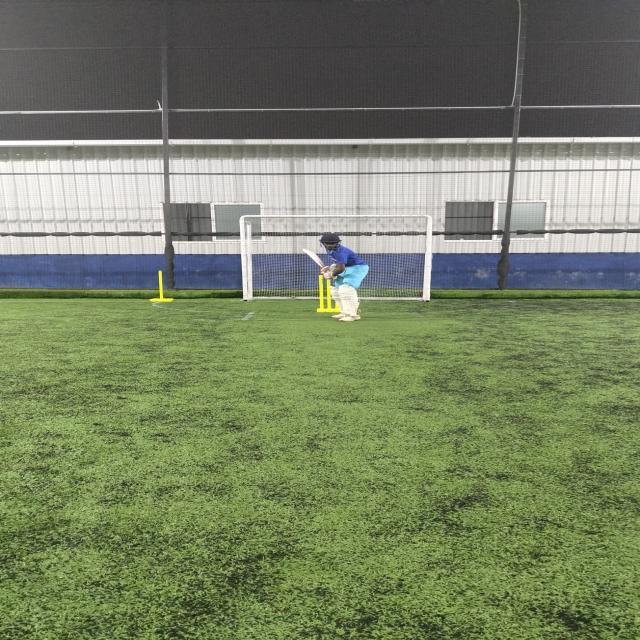stump: (313, 274, 342, 312)
